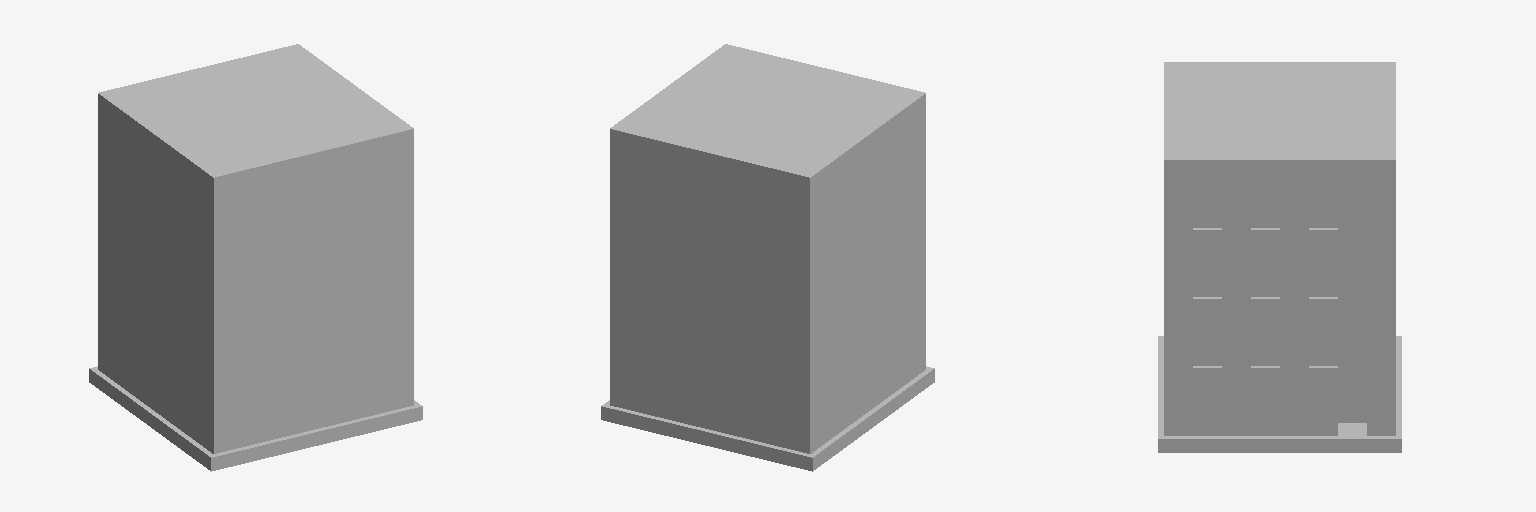
The model's file is building1 8x8x0.5.obj.
3 renders of one model, left to right at view 1: azimuth 30°, elevation 25°; view 2: azimuth 150°, elevation 25°; view 3: azimuth 270°, elevation 25°, orthographic.
Visible parts, largest first — view 1: Cube; view 2: Cube; view 3: Cube.
Boxes of the visible parts, <box> form: Cube: <box>89,44,422,471</box>; Cube: <box>601,44,934,471</box>; Cube: <box>1158,62,1401,452</box>.
Bounding box in the file's own units: 16 × 21 × 16.